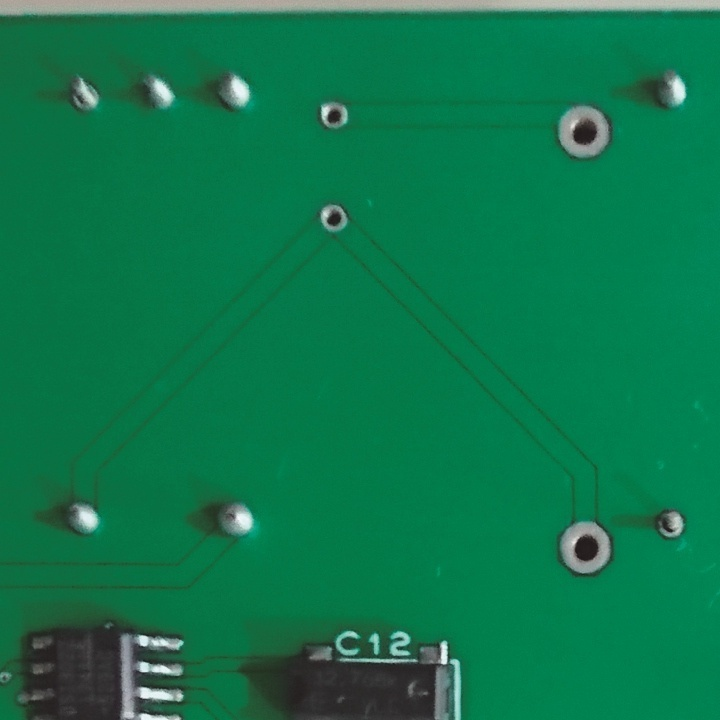F: (553, 101, 614, 164), (556, 517, 617, 578), (653, 503, 689, 546), (64, 73, 102, 113), (316, 102, 351, 135), (317, 202, 350, 237)
